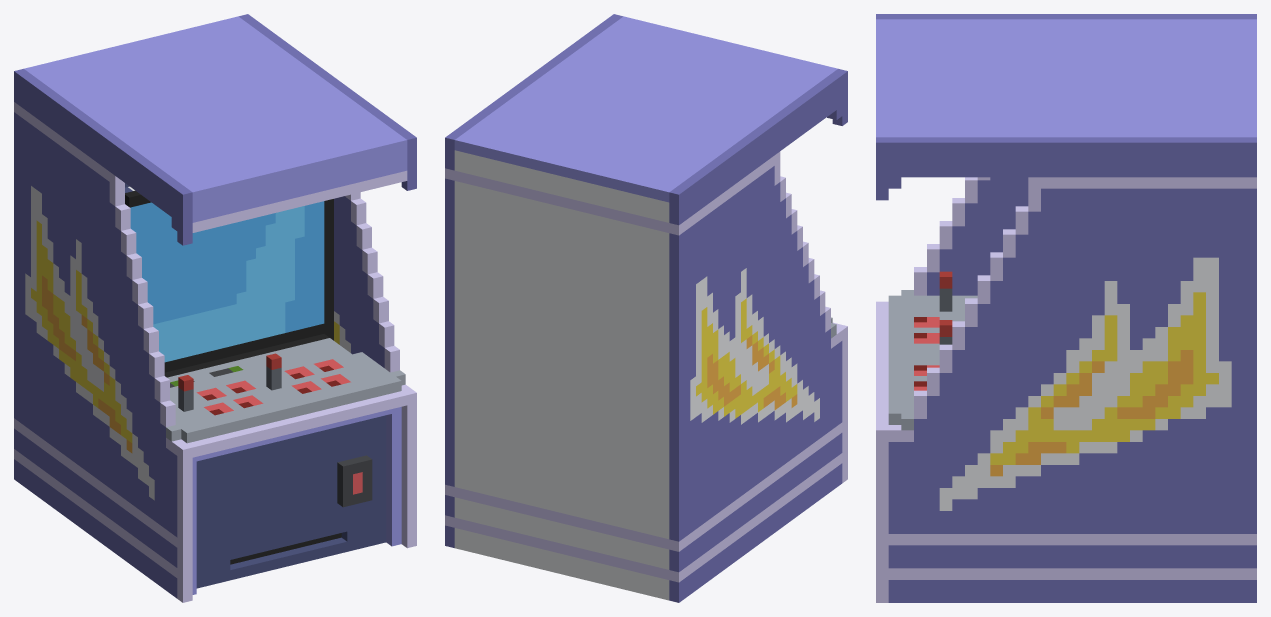
The model's file is arcade.obj.
The picture shows the model from 3 angles, left to right: view 1: azimuth 30°, elevation 25°; view 2: azimuth 150°, elevation 25°; view 3: azimuth 270°, elevation 25°; orthographic projection. The views are drawn at different scales.
Size of the model in its own units: 2.4 by 4 by 3.
Materials: 1 (1 with a texture image).
